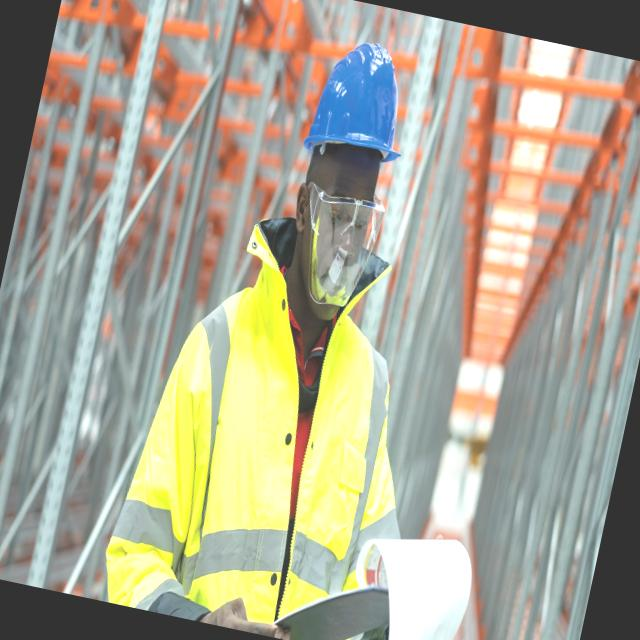goggles: (274, 170, 396, 316)
helmet: (298, 24, 417, 193)
vest: (130, 250, 413, 640)
